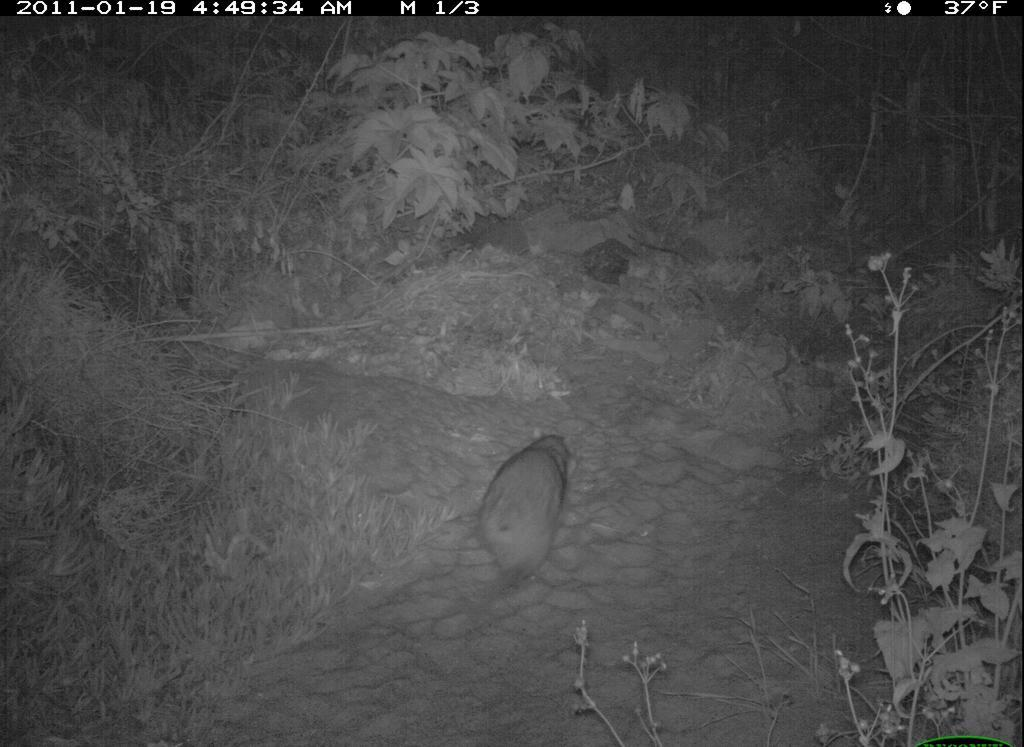raccoon: (469, 418, 580, 606)
